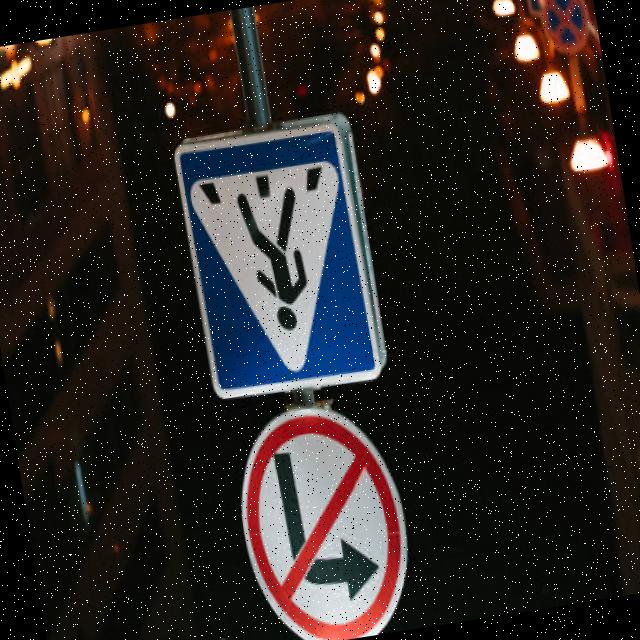do_not_turn_right: (227, 389, 418, 640)
